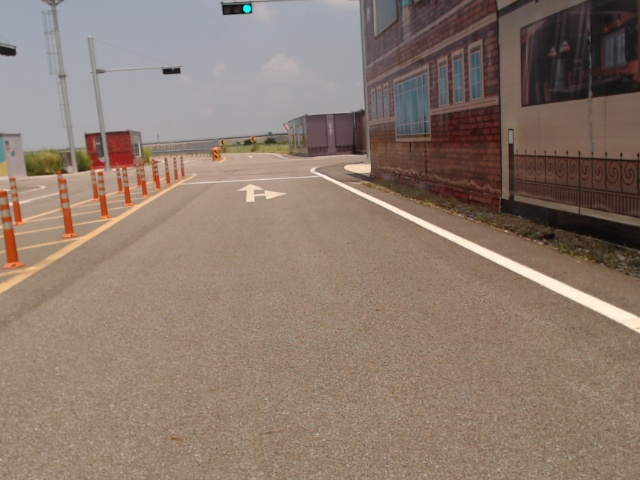green_3: (222, 3, 253, 15)
